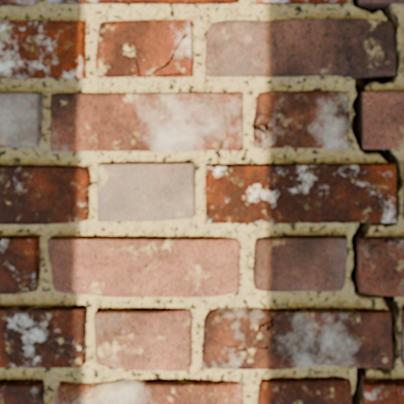brick: (202, 307, 390, 368), (48, 237, 239, 296), (205, 164, 394, 222), (51, 93, 242, 150), (206, 19, 393, 76), (95, 309, 191, 369), (98, 162, 194, 220), (96, 20, 192, 76), (254, 91, 348, 147), (0, 306, 86, 367), (253, 235, 346, 290), (0, 166, 89, 223), (0, 21, 85, 77), (54, 379, 242, 403), (358, 237, 403, 295), (259, 377, 350, 403), (363, 91, 403, 147), (0, 93, 42, 146), (0, 236, 39, 292), (0, 380, 43, 403), (363, 379, 403, 403), (48, 0, 237, 3), (252, 0, 345, 3), (0, 0, 37, 4), (359, 0, 403, 2), (402, 306, 403, 365)
crack: (349, 0, 403, 403), (128, 32, 187, 78), (253, 112, 286, 139), (217, 114, 229, 150), (370, 237, 403, 247), (69, 394, 80, 403)
